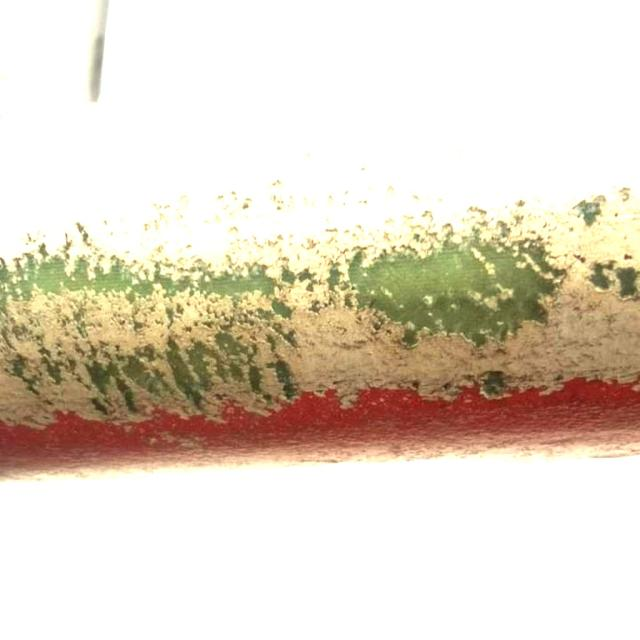corrosion: (5, 184, 636, 424)
